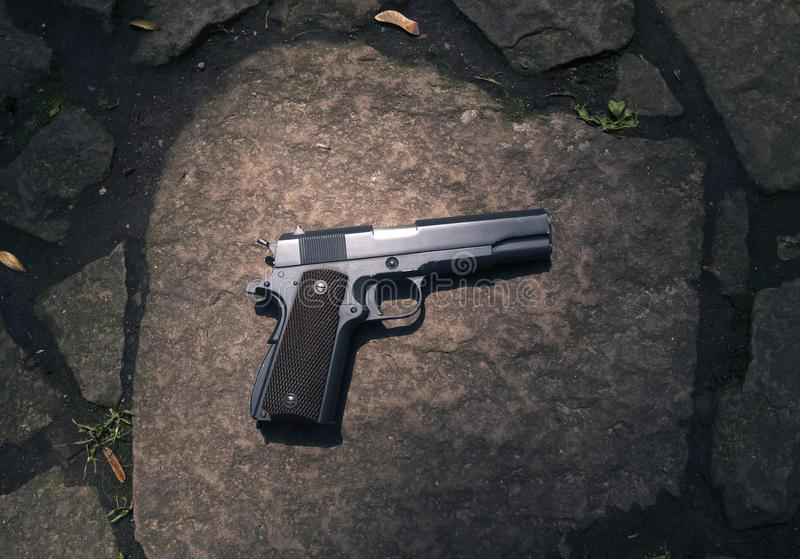weapon: (245, 200, 562, 449)
